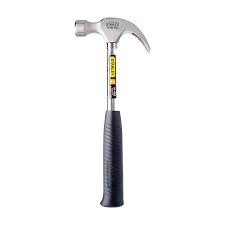martillu: (72, 14, 152, 206)
